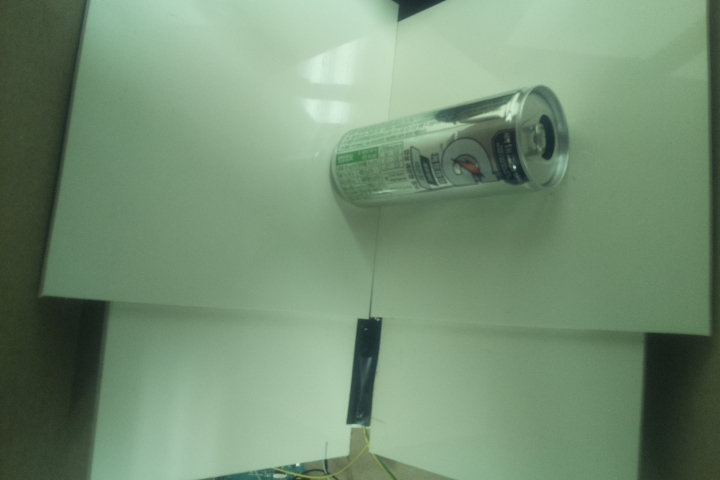can: (327, 83, 571, 210)
